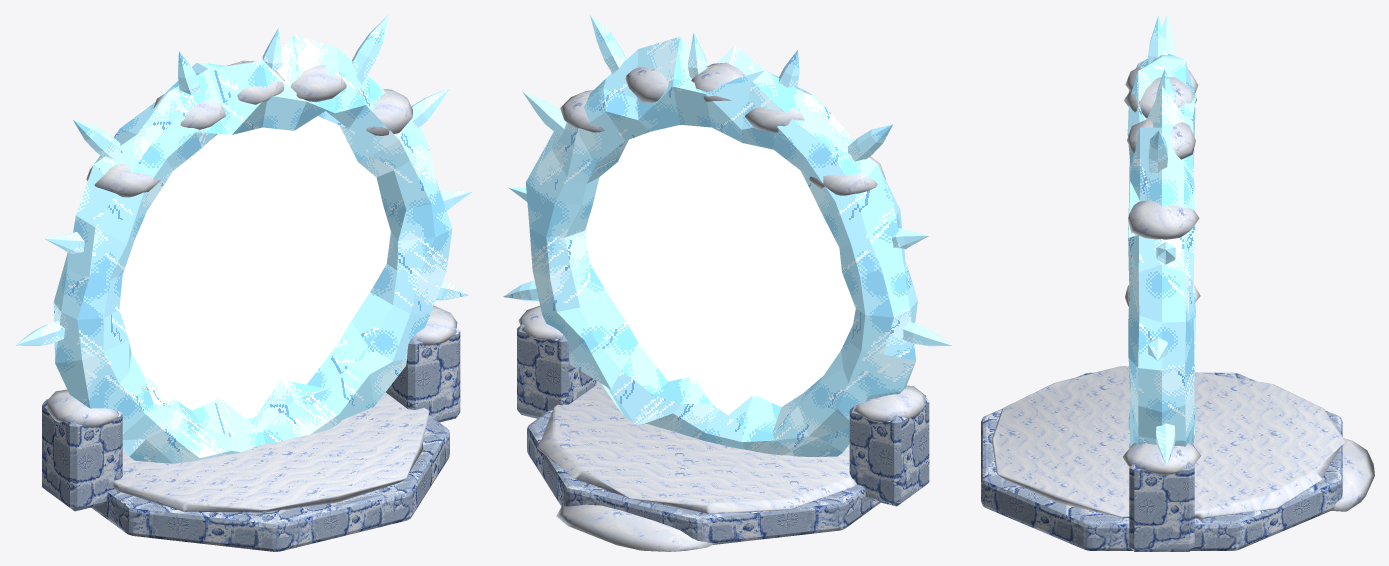
File: frost_portal.glb
3 views of the same model, side by side, from view 1: azimuth 30°, elevation 25°; view 2: azimuth 150°, elevation 25°; view 3: azimuth 270°, elevation 25° (orthographic). The views are drawn at different scales.
Visible parts, largest first — view 1: Ring, Disc, Snow, Base, Feet, Spikes, RingSnow; view 2: Ring, Disc, Snow, Feet, Base, Spikes, RingSnow; view 3: Snow, Ring, Base, Feet, RingSnow, Spikes.
Boxes of the visible parts, box(x1,y1,x2,y2) form: Ring: box(53, 35, 452, 463); Disc: box(119, 116, 390, 418); Snow: box(47, 305, 457, 512); Base: box(91, 415, 449, 551); Feet: box(42, 327, 460, 511); Spikes: box(15, 14, 472, 345); RingSnow: box(86, 60, 412, 197); Ring: box(526, 36, 917, 456); Disc: box(585, 125, 855, 415); Snow: box(518, 305, 926, 551); Feet: box(517, 324, 929, 506); Base: box(527, 410, 880, 544); Spikes: box(503, 14, 951, 346); RingSnow: box(560, 62, 885, 195); Snow: box(991, 285, 1374, 518); Ring: box(1127, 53, 1195, 448); Base: box(981, 372, 1342, 550); Feet: box(1129, 443, 1194, 551); RingSnow: box(1124, 67, 1199, 239); Spikes: box(1148, 14, 1175, 465).
Bounding box in the file's own units: 7.83 × 7.36 × 6.04.
4 materials, 3 textured.
